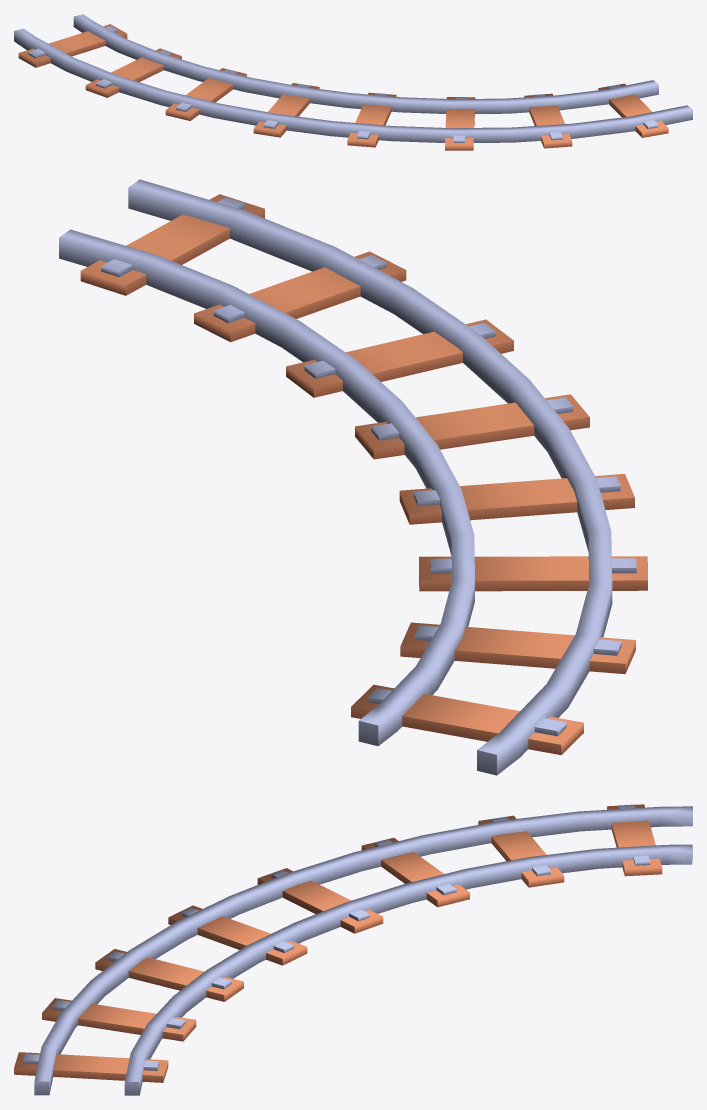
The model's file is railroad-corner-large.003_lev2.glb.
3 renders of one model, top to bottom at view 1: azimuth 30°, elevation 25°; view 2: azimuth 150°, elevation 25°; view 3: azimuth 270°, elevation 25°, orthographic. The views are drawn at different scales.
Visible parts, largest first — view 1: railroad-corner-large.003_lev2; view 2: railroad-corner-large.003_lev2; view 3: railroad-corner-large.003_lev2.
Part boxes in pixels (x1,y1,x2,y2): railroad-corner-large.003_lev2: (14, 14, 692, 150); railroad-corner-large.003_lev2: (59, 179, 647, 775); railroad-corner-large.003_lev2: (14, 804, 692, 1095).
Size of the model in its own units: 4.47 by 0.1 by 4.51.
1 material, 1 textured.
